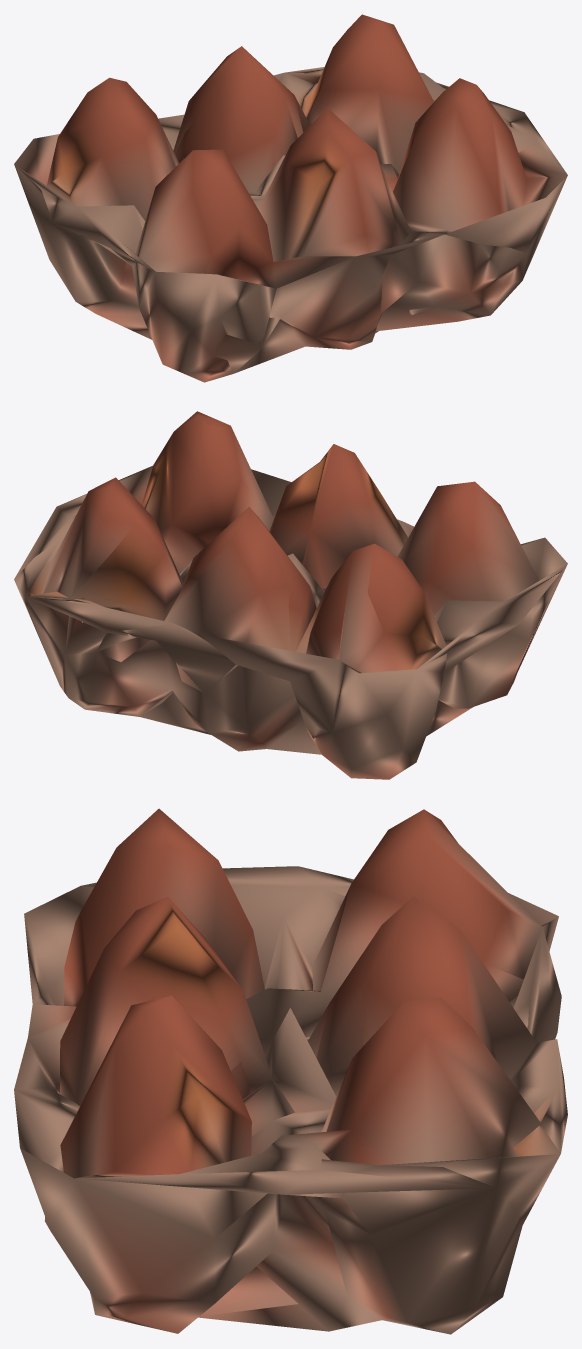
Rendered from gen3d-egg-tray-lod1.glb.
3 renders of one model, top to bottom at view 1: azimuth 30°, elevation 25°; view 2: azimuth 150°, elevation 25°; view 3: azimuth 270°, elevation 25°, orthographic. The views are drawn at different scales.
Parts seen in each view (by area): view 1: part_0; view 2: part_0; view 3: part_0.
Boxes of the visible parts, bbox=[...] form: part_0: bbox=[14, 14, 567, 382]; part_0: bbox=[14, 411, 567, 779]; part_0: bbox=[14, 808, 567, 1334].
Size of the model in its own units: 2.05 by 1 by 1.46.
